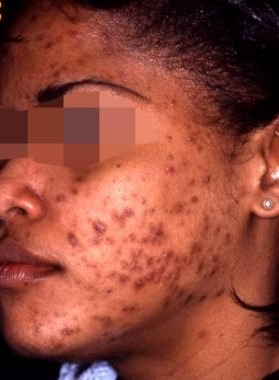Acne: (25, 26, 232, 331)
